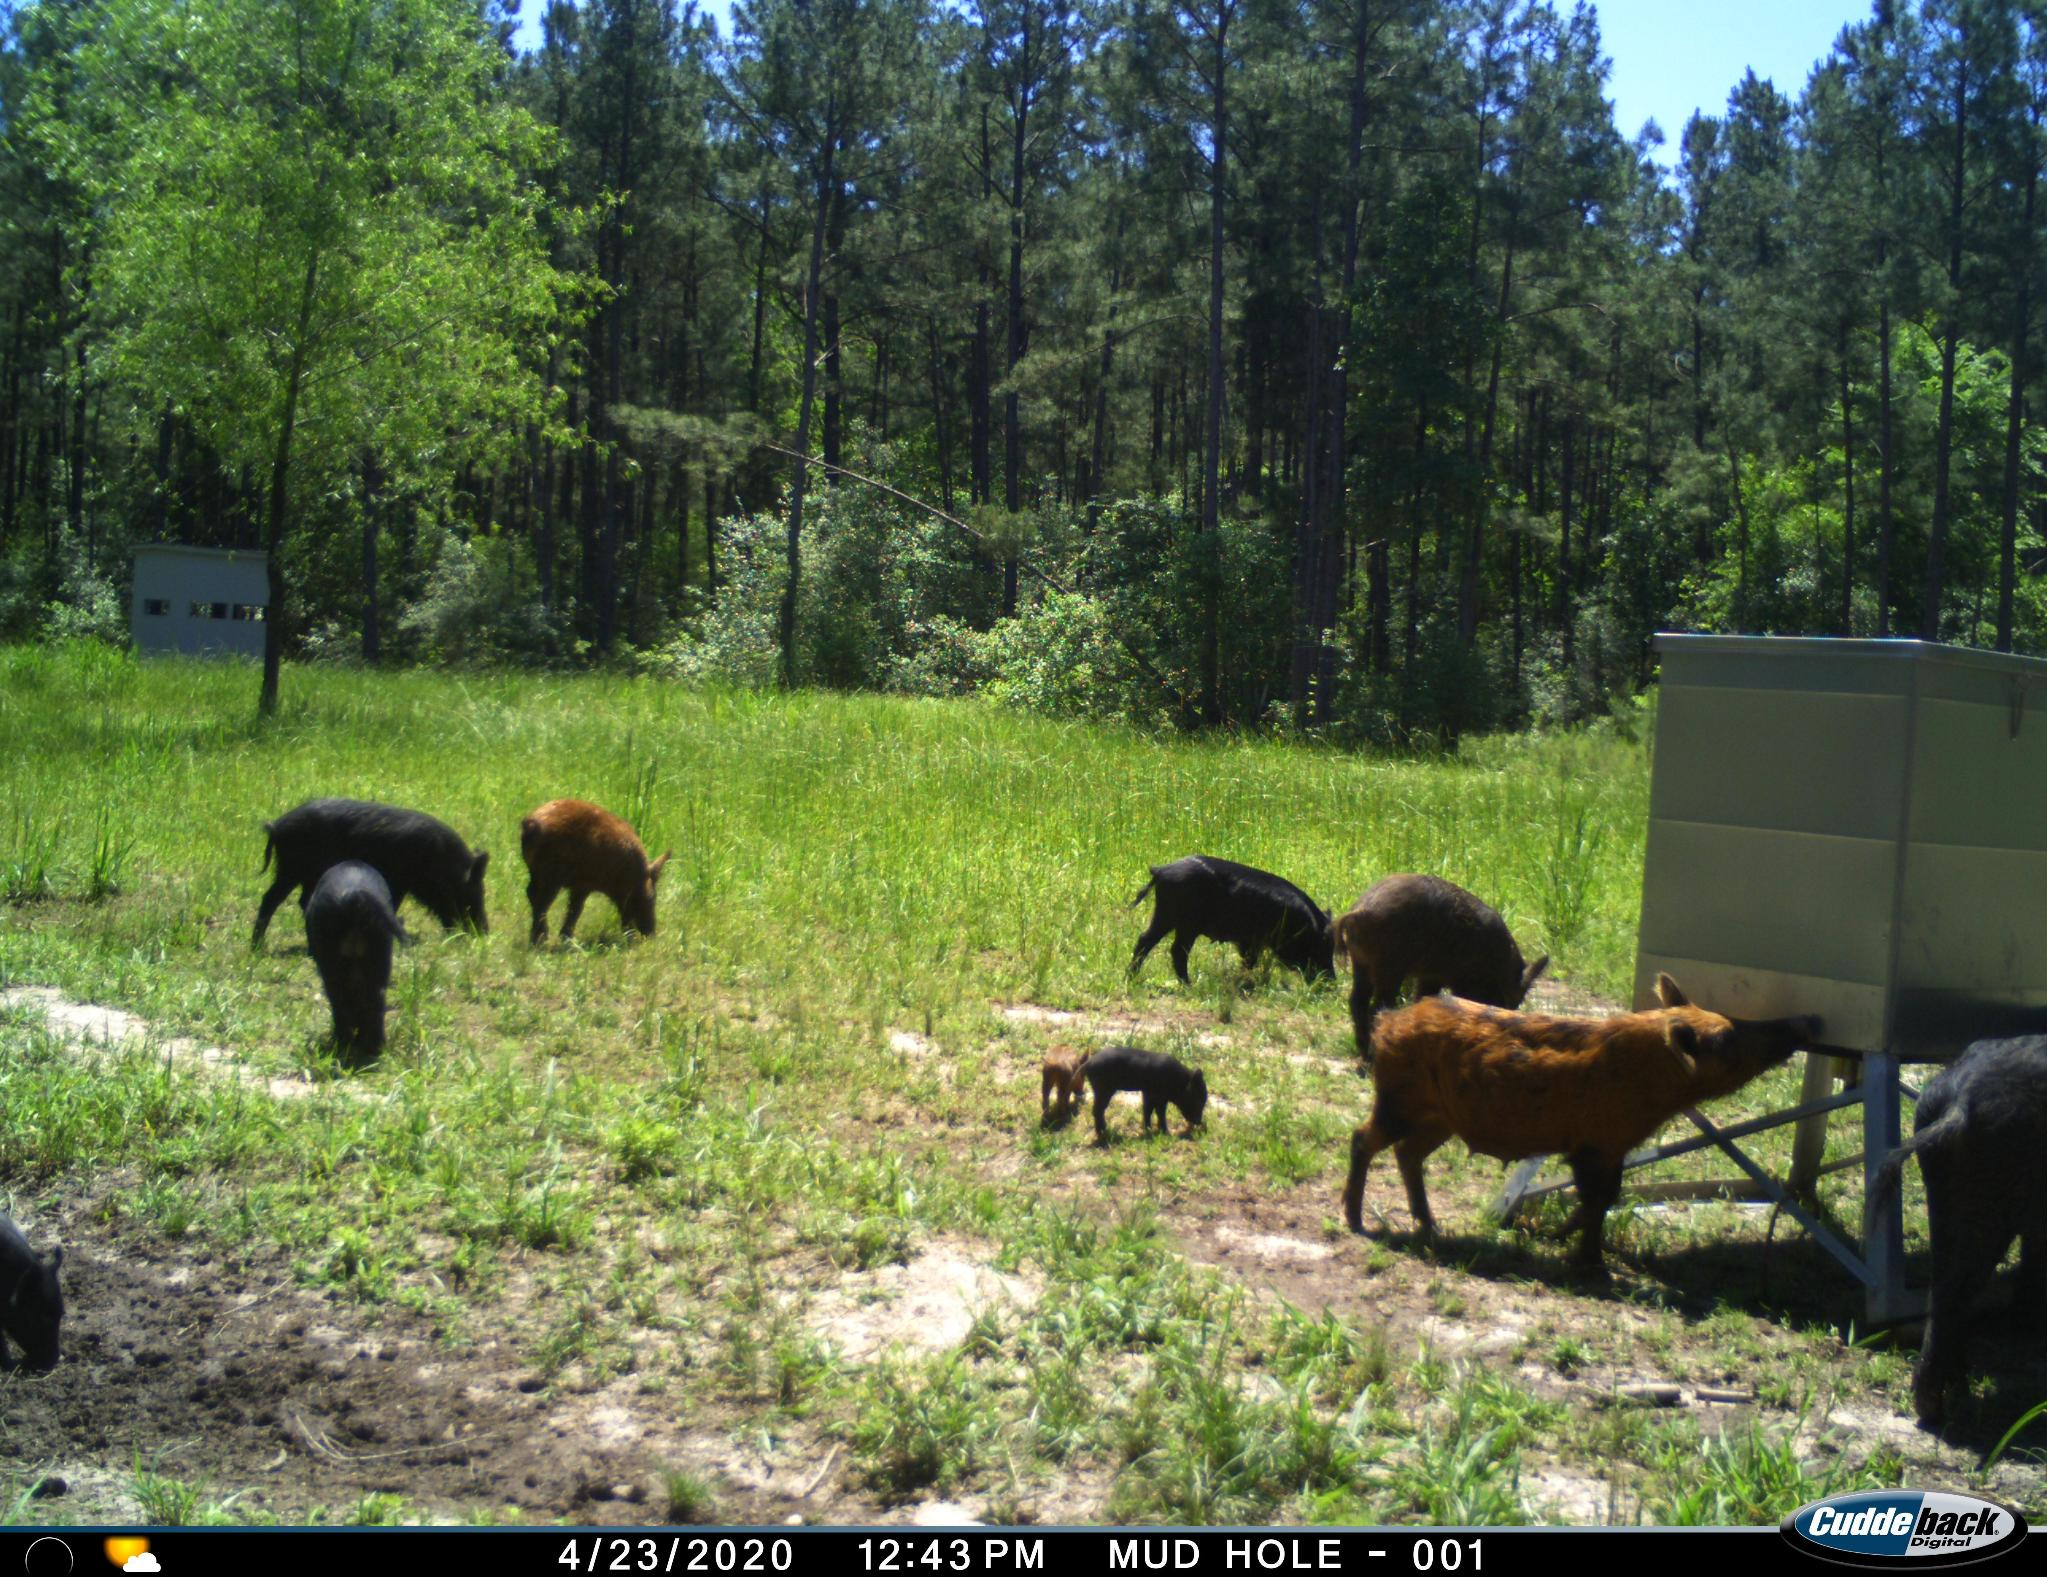Hog: (1341, 969, 1795, 1271), (1901, 1019, 2047, 1454), (1337, 868, 1545, 1050), (1123, 843, 1343, 999), (257, 792, 495, 934), (513, 792, 677, 952), (311, 860, 402, 1059), (1075, 1042, 1217, 1150), (0, 1198, 71, 1385), (1037, 1034, 1090, 1135)
